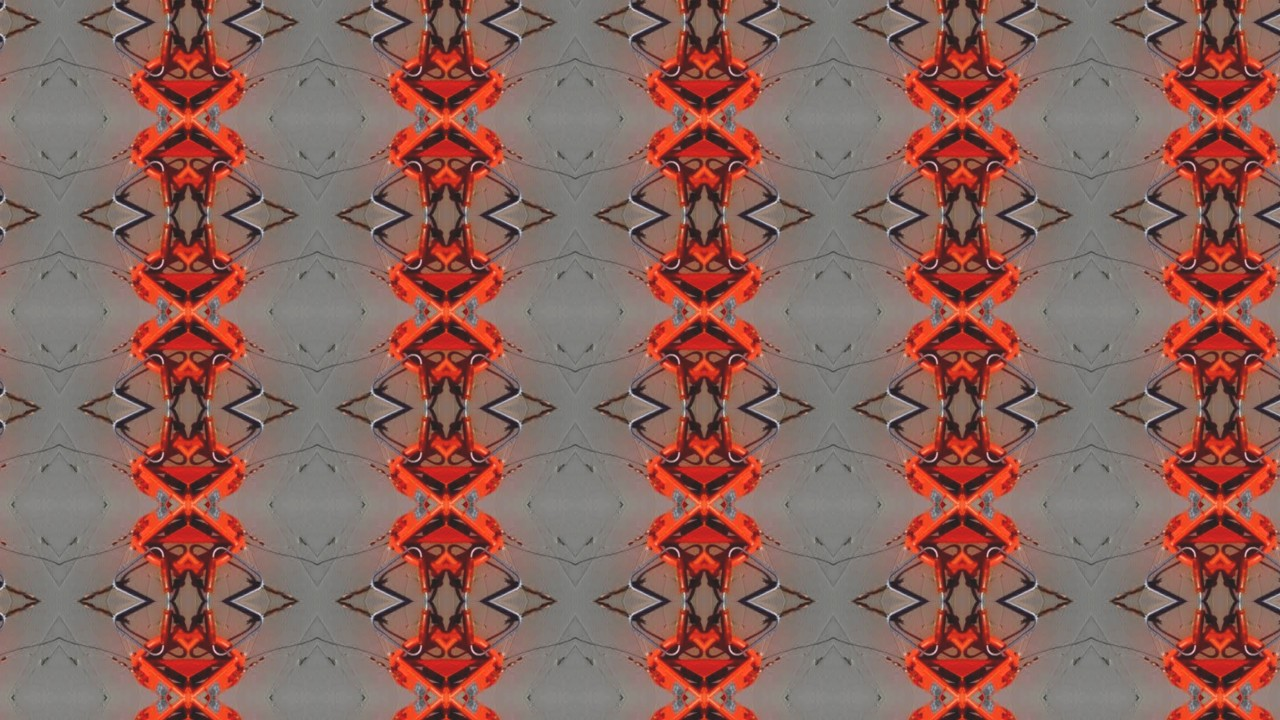chock: (119, 28, 187, 118), (186, 28, 254, 118), (378, 28, 446, 118), (445, 28, 513, 118), (704, 28, 772, 118), (896, 28, 964, 118), (1155, 28, 1223, 118), (119, 117, 187, 207), (186, 117, 254, 207), (378, 117, 446, 207), (445, 117, 513, 207), (704, 117, 772, 207), (896, 117, 964, 207), (1155, 117, 1223, 207), (119, 222, 187, 312), (186, 222, 254, 312), (378, 222, 446, 312), (445, 222, 513, 312), (704, 222, 772, 312), (896, 222, 964, 312), (1155, 222, 1223, 312), (119, 416, 187, 506), (186, 416, 254, 506), (378, 416, 446, 506), (445, 416, 513, 506), (704, 416, 772, 506), (896, 416, 964, 506), (1155, 416, 1223, 506), (119, 505, 187, 595), (186, 505, 254, 595), (378, 505, 446, 595), (445, 505, 513, 595), (704, 505, 772, 595), (896, 505, 964, 595), (1155, 505, 1223, 595), (119, 610, 187, 700), (186, 610, 254, 700), (378, 610, 446, 700), (445, 610, 513, 700), (704, 610, 772, 700), (896, 610, 964, 700), (1155, 610, 1223, 700), (119, 312, 187, 401), (186, 312, 254, 401), (378, 312, 446, 401), (445, 312, 513, 401), (704, 312, 772, 401), (896, 312, 964, 401), (1155, 312, 1223, 401), (637, 28, 704, 118), (964, 28, 1031, 118), (637, 117, 704, 207), (964, 117, 1031, 207), (637, 222, 704, 312), (964, 222, 1031, 312), (637, 416, 704, 506), (964, 416, 1031, 506), (637, 505, 704, 595), (964, 505, 1031, 595), (637, 610, 704, 700), (964, 610, 1031, 700), (637, 312, 704, 401), (964, 312, 1031, 401), (1222, 28, 1280, 118), (1222, 117, 1280, 207), (1222, 222, 1280, 312), (1222, 416, 1280, 506), (1222, 505, 1280, 595), (1222, 610, 1280, 700), (1222, 312, 1280, 401), (119, 700, 187, 720), (186, 700, 254, 720), (378, 700, 446, 720), (445, 700, 513, 720), (704, 700, 772, 720), (896, 700, 964, 720), (1155, 700, 1223, 720), (637, 700, 704, 720), (964, 700, 1031, 720), (1222, 700, 1280, 720), (119, 0, 187, 13), (186, 0, 254, 13), (378, 0, 446, 13), (445, 0, 513, 13), (704, 0, 772, 13), (896, 0, 964, 13), (1155, 0, 1223, 13), (637, 0, 704, 13), (964, 0, 1031, 13), (1222, 0, 1280, 13)
